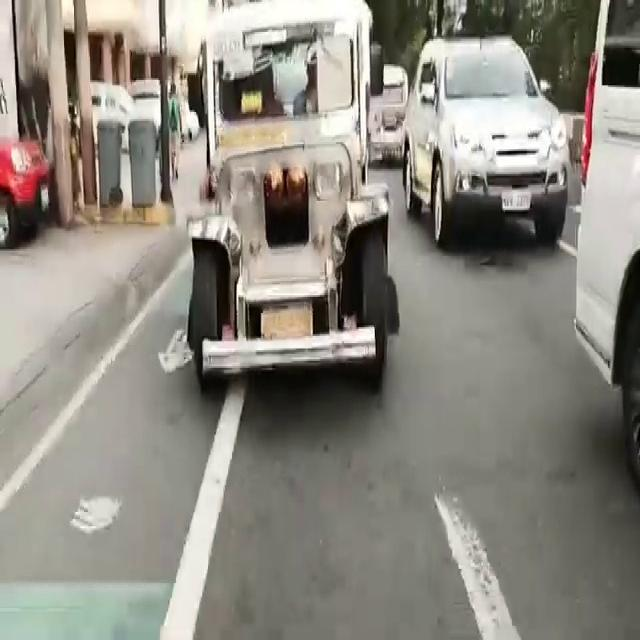car: (398, 54, 564, 256)
jeepney: (154, 55, 402, 390), (360, 70, 408, 166)
